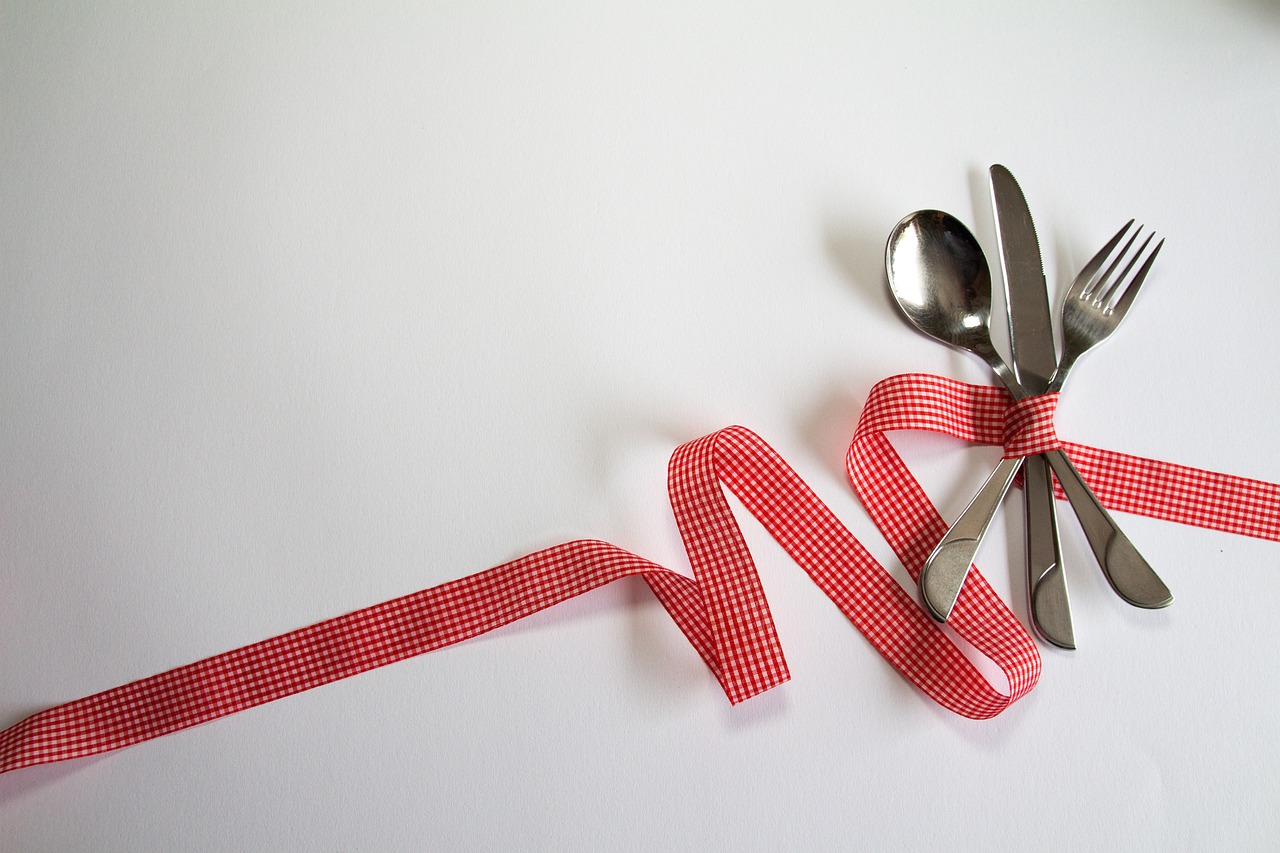knife: (972, 150, 1086, 653)
